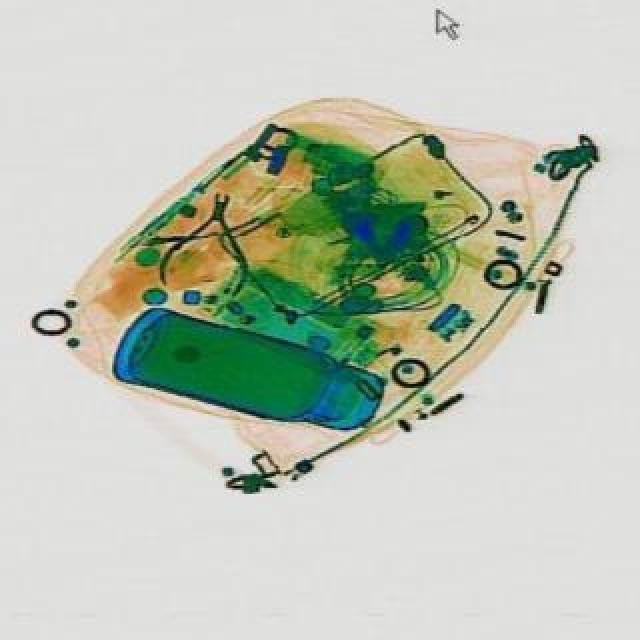wrench: (152, 182, 264, 300)
